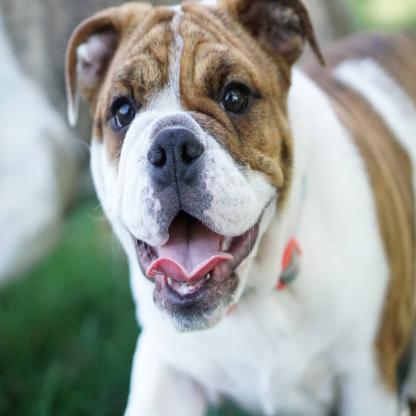British Bulldog: (43, 0, 416, 416), (62, 93, 63, 97)
